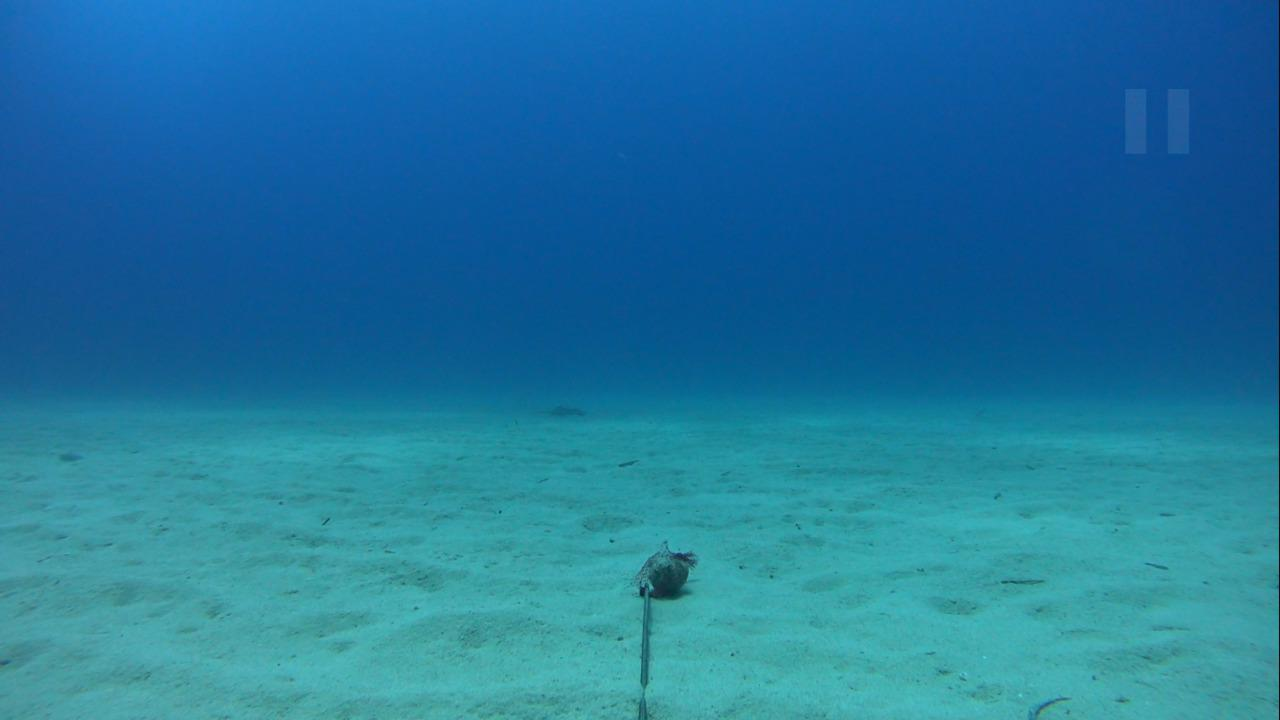myliobatis: (508, 397, 592, 428)
